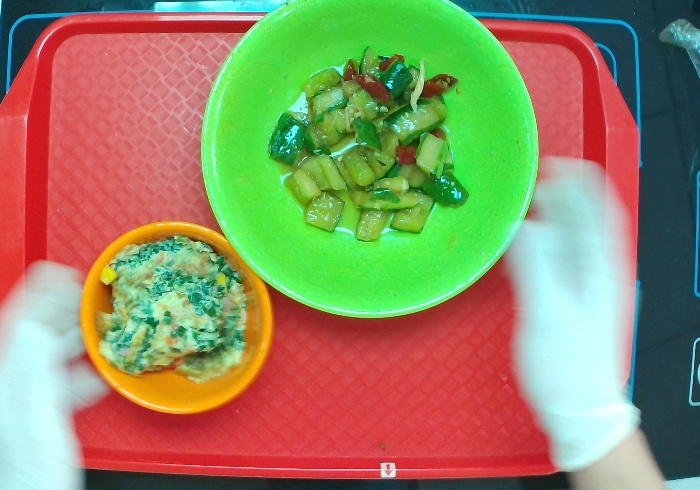YKMZ-Ju_Se_Yuan_Wan: (77, 215, 280, 426)
YKMZ-Lv_Se_Tang_Wan: (185, 1, 551, 338)
